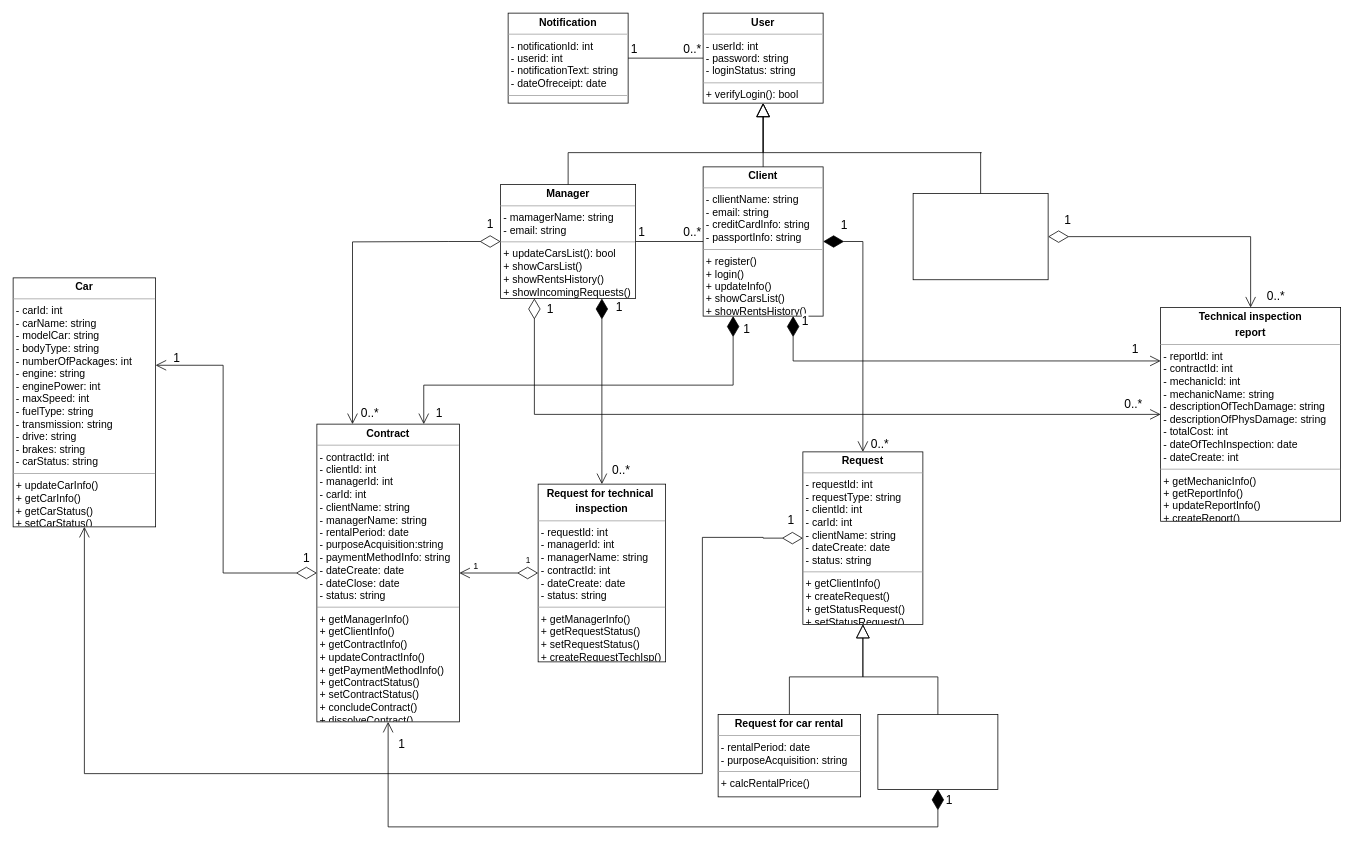
The diagram is 1354 pixels wide and 861 high, and some of its shapes have lost their labels. The shapes that lost their labels are listed below. From the top down, each one's centre as x and y in pixels, then its label:
At (980,236): "Mechanic - mechanicName: string - email: string + showIncomingRequests()".
At (937,751): "Request for closing car rental - contractId: int".
